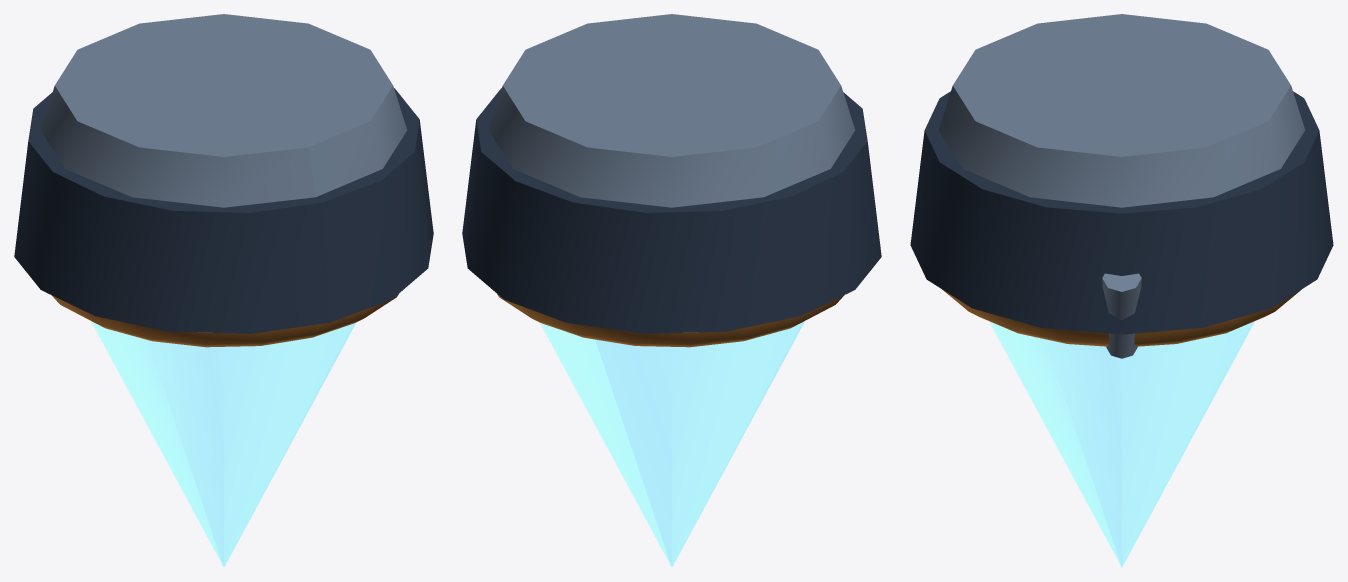
File: eng-ion.glb
The picture shows the model from 3 angles, left to right: view 1: azimuth 30°, elevation 25°; view 2: azimuth 150°, elevation 25°; view 3: azimuth 270°, elevation 25°; orthographic projection.
Visible parts, largest first — view 1: engine_adapter_flange, ion_housing_outer, plume_cone_outer, ion_magnetic_ring; view 2: engine_adapter_flange, ion_housing_outer, plume_cone_outer, ion_magnetic_ring; view 3: engine_adapter_flange, ion_housing_outer, plume_cone_outer, ion_magnetic_ring, ion_cathode_neutralizer.
Part boxes in pixels (x1,y1,x2,y2): engine_adapter_flange: [40, 14, 407, 207]; ion_housing_outer: [14, 88, 433, 333]; plume_cone_outer: [91, 321, 355, 566]; ion_magnetic_ring: [51, 294, 398, 347]; engine_adapter_flange: [488, 14, 855, 207]; ion_housing_outer: [462, 88, 881, 333]; plume_cone_outer: [540, 321, 804, 566]; ion_magnetic_ring: [497, 294, 844, 347]; engine_adapter_flange: [938, 14, 1305, 207]; ion_housing_outer: [910, 91, 1333, 334]; plume_cone_outer: [989, 321, 1254, 566]; ion_magnetic_ring: [942, 289, 1301, 346]; ion_cathode_neutralizer: [1102, 273, 1141, 358].
Bounding box in the file's own units: 0.6203 × 0.755 × 0.6.
